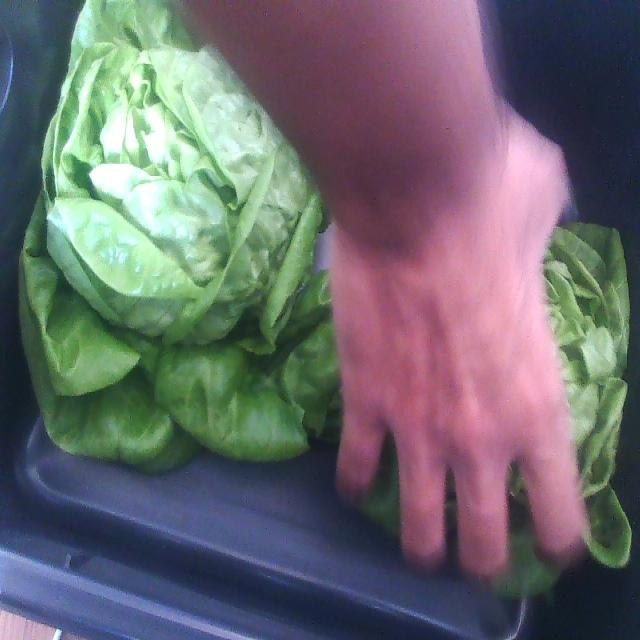Lettuce-plant: (19, 0, 336, 469)
